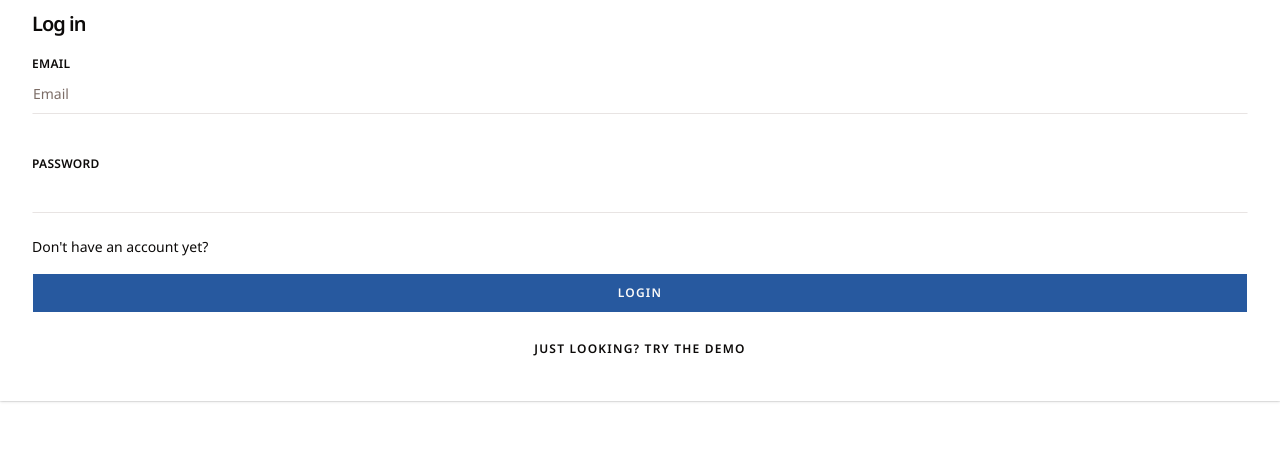
Scenario: LoginForm › shows the server's message for bad credentials and stays on the page
Type "ada@example.com" into the field with placeholder "Email". click: (640, 94)
box: [32, 74, 1248, 114]
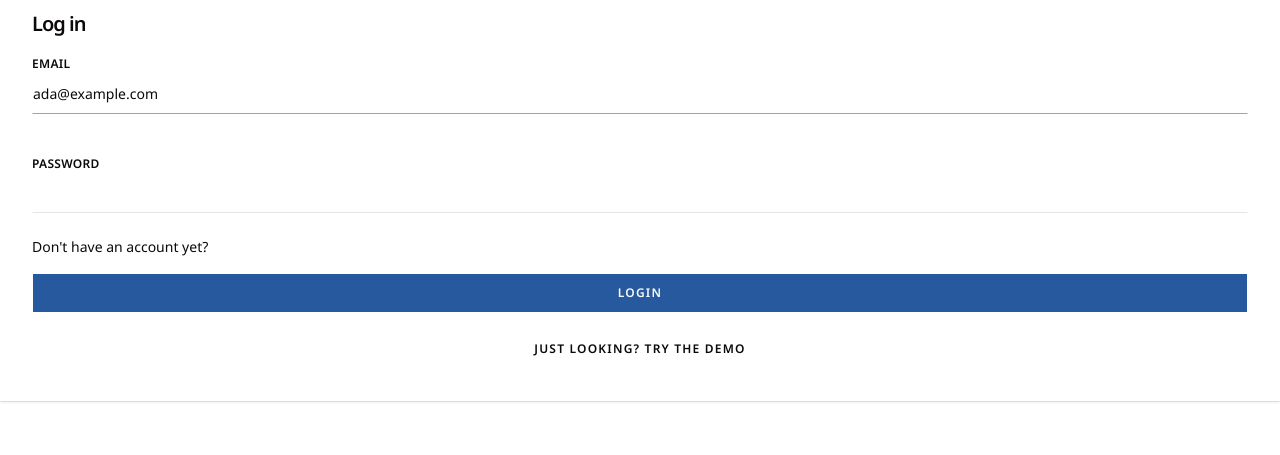
Type "Passw0rdTest" into the password field. click: (640, 193)
box: [32, 173, 1248, 213]
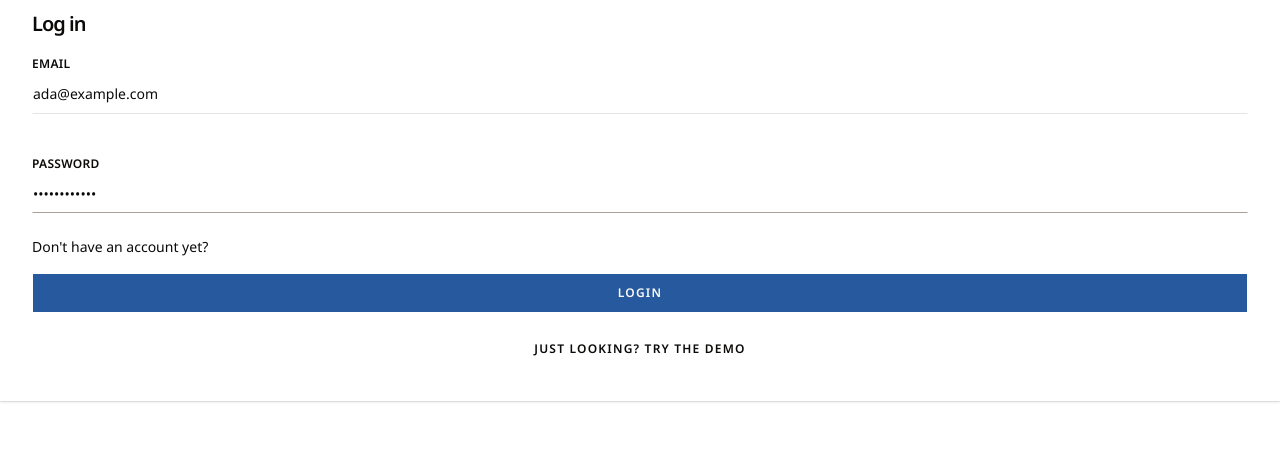
Click the button "Login". click: (640, 293)
box: [32, 273, 1248, 313]
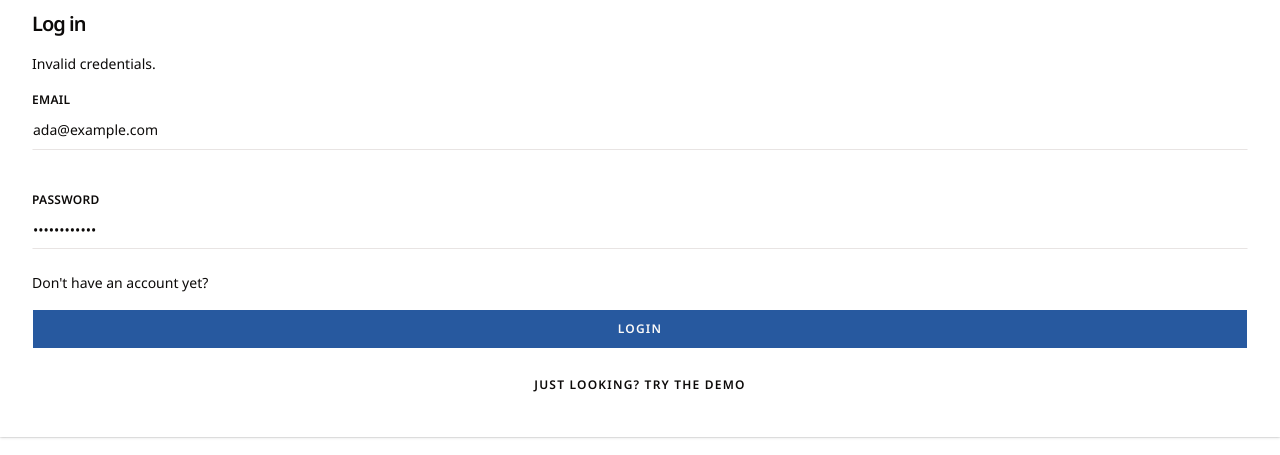
Expected: the message reads "Invalid credentials.", [32, 54, 156, 73]
